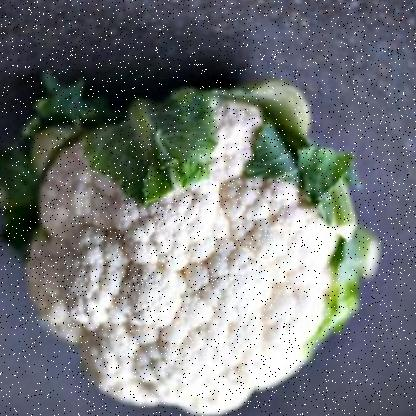cauliflower: (35, 84, 354, 408)
